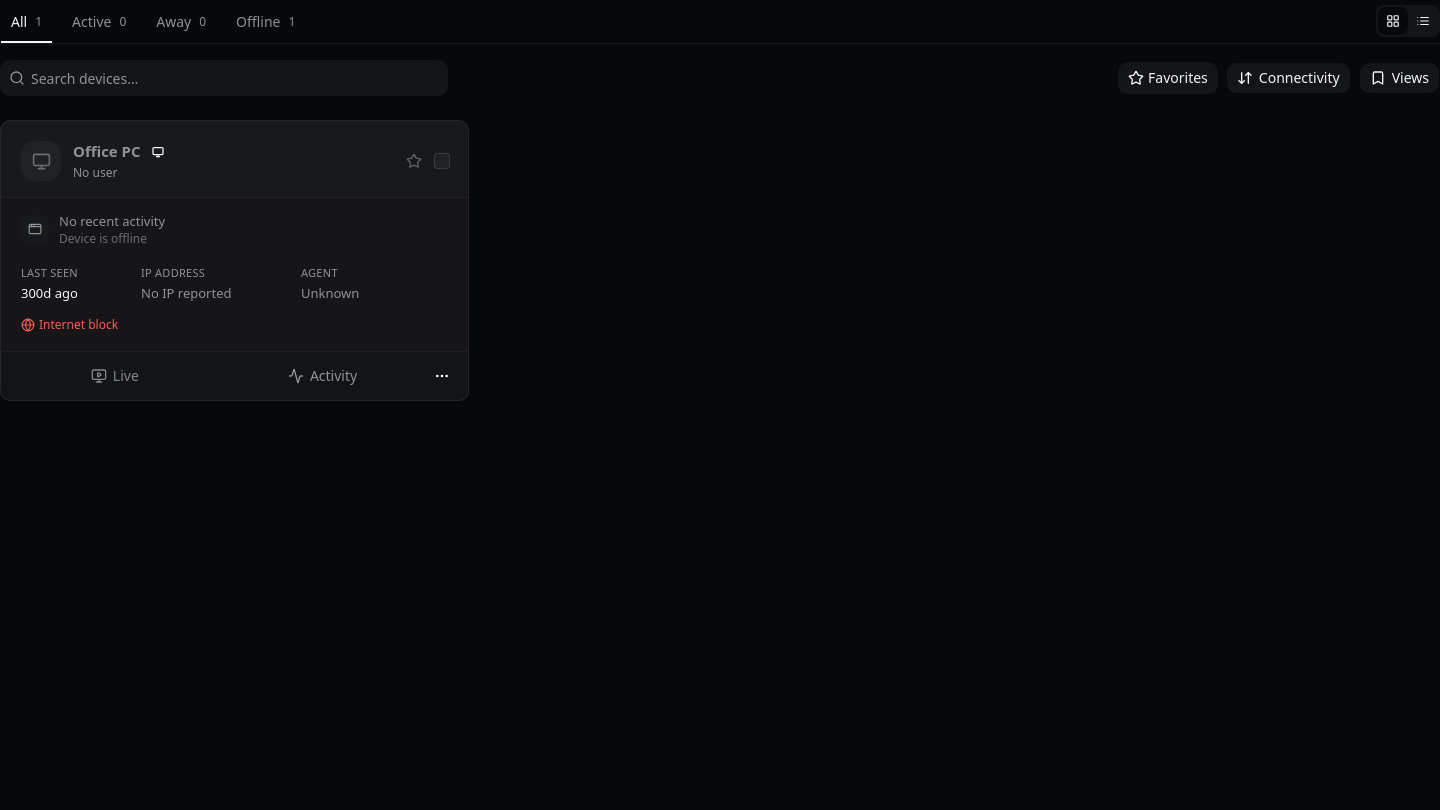
Test: fleet removal › propagates API rejection and preserves bulk selection
The image size is (1440, 810).
Click the button named "List view": point(1423, 21) [1408,7,1438,35]
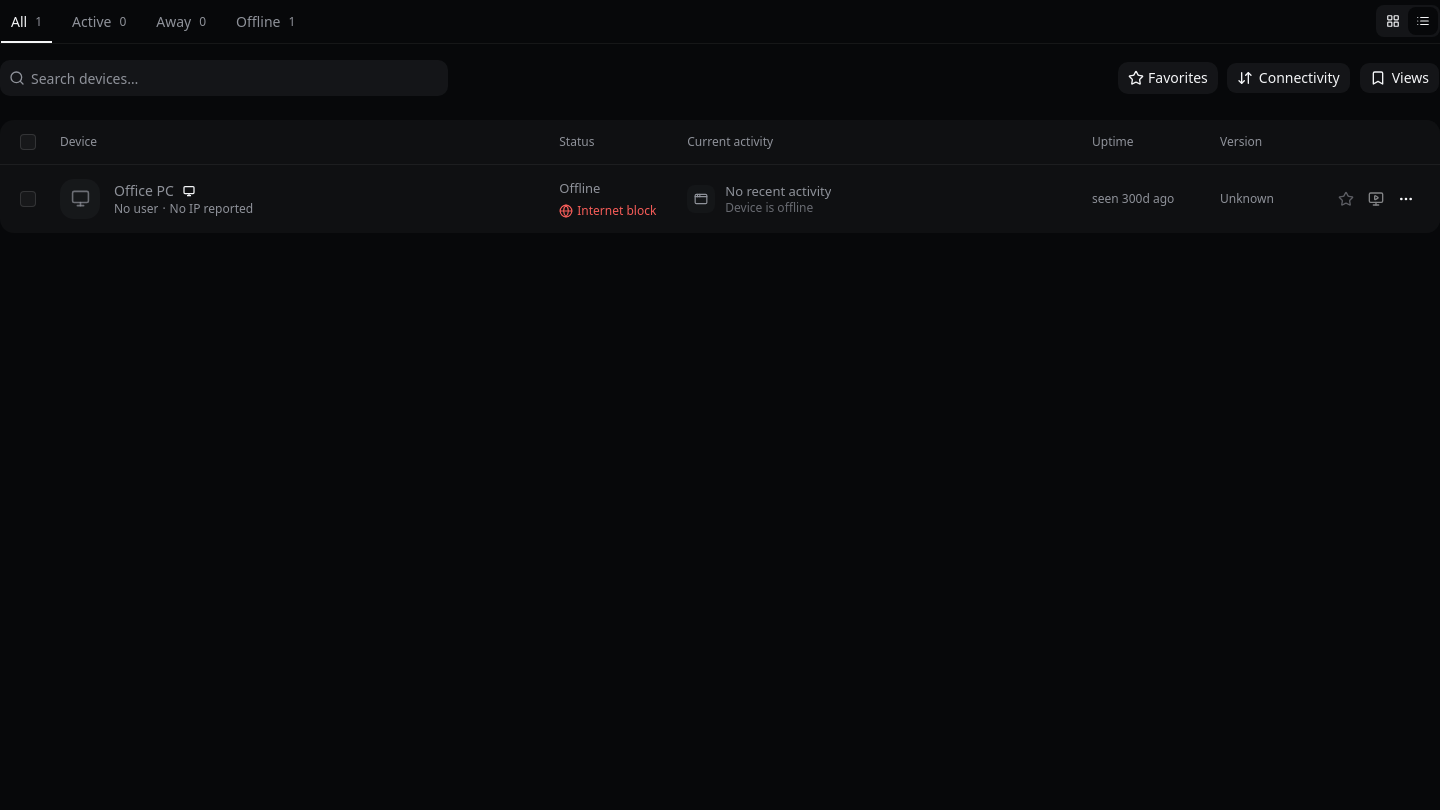
Click the checkbox named "Select all visible devices": point(28, 142) [20,134,36,150]
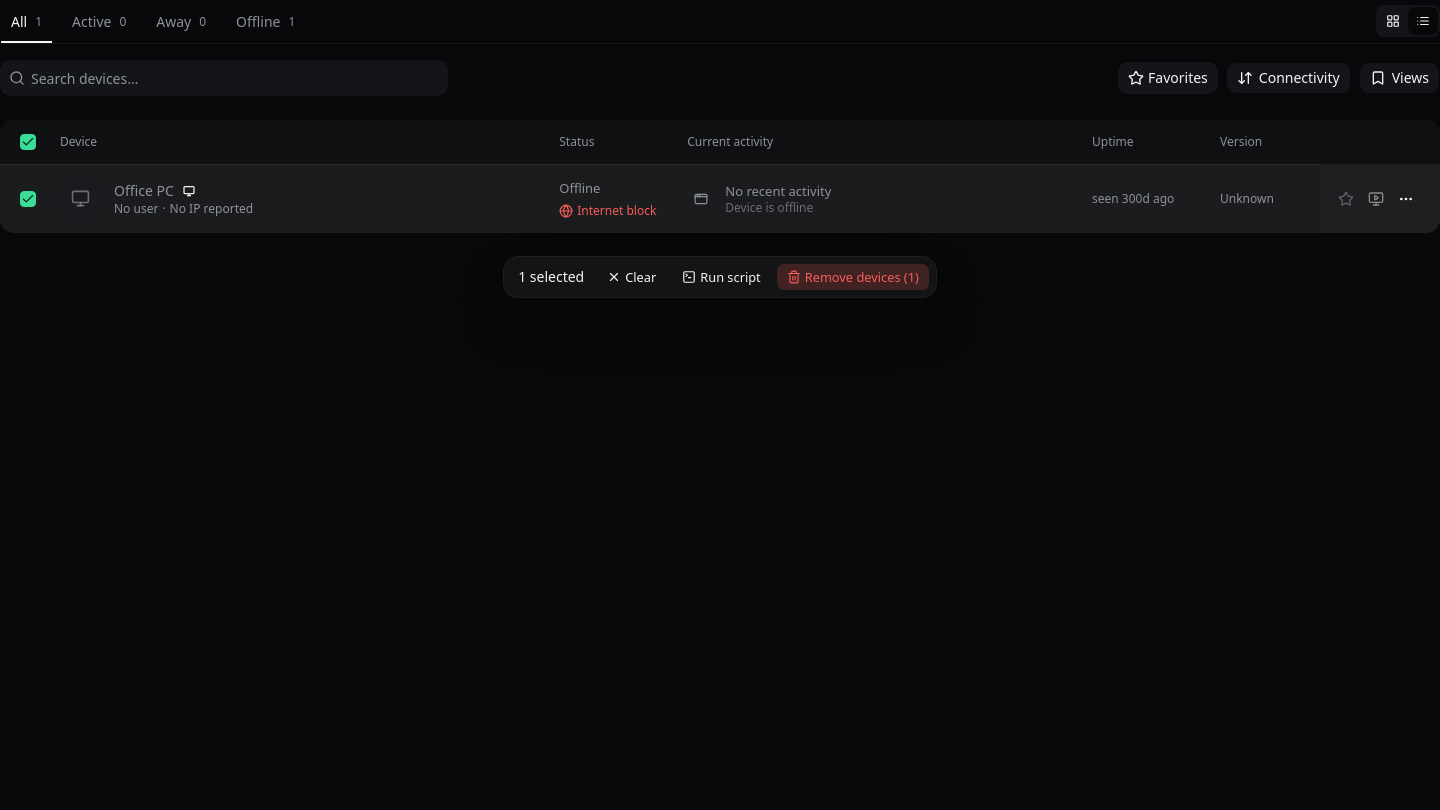
Check: the text "1 selected" is shown, box [518,267,584,287]
Check: the button "Remove devices (1)" is shown
Click the button "Remove devices (1)": point(853, 277) [776,263,930,291]
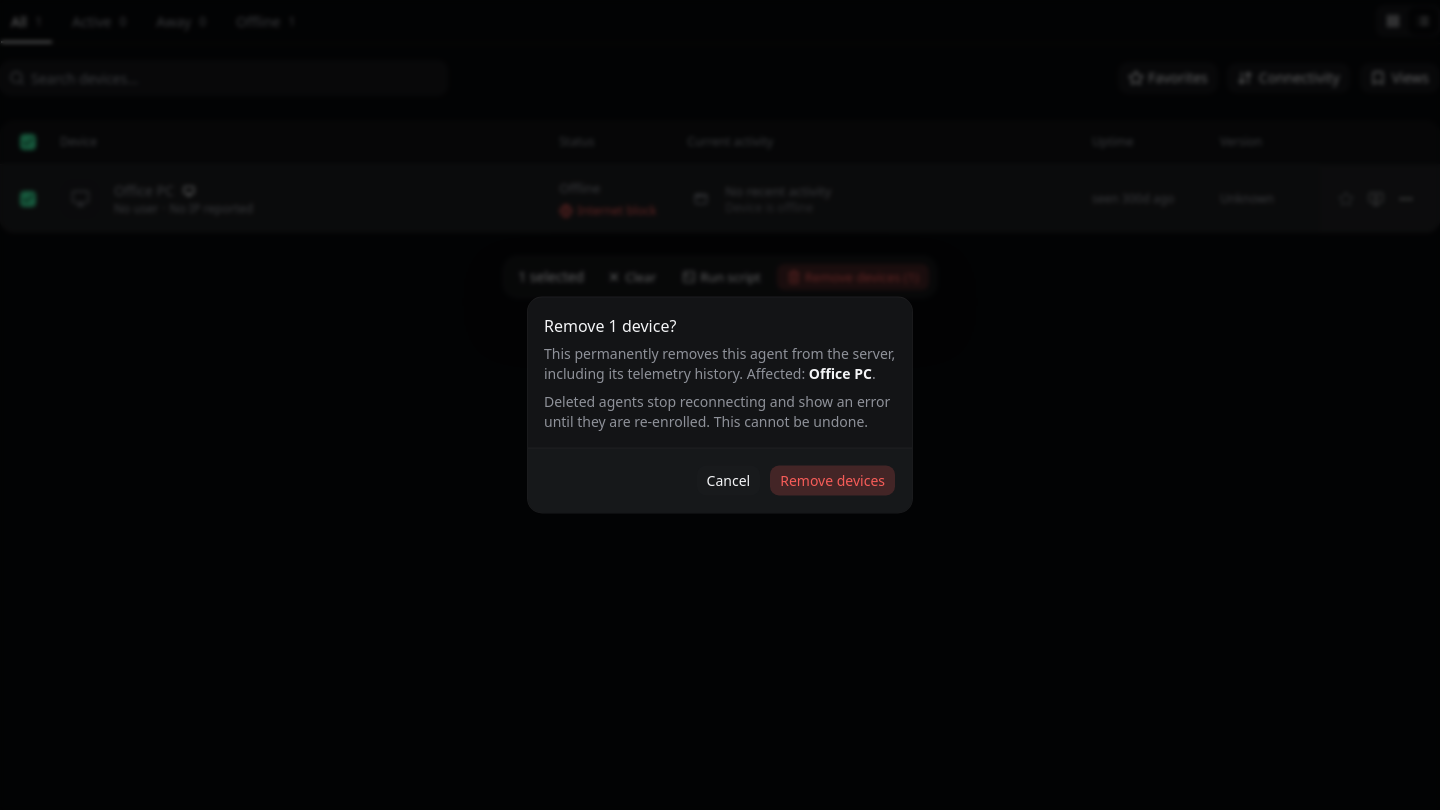
Check: the button "Remove devices" is shown
Click the button "Remove devices": point(833, 480) [769,464,896,496]
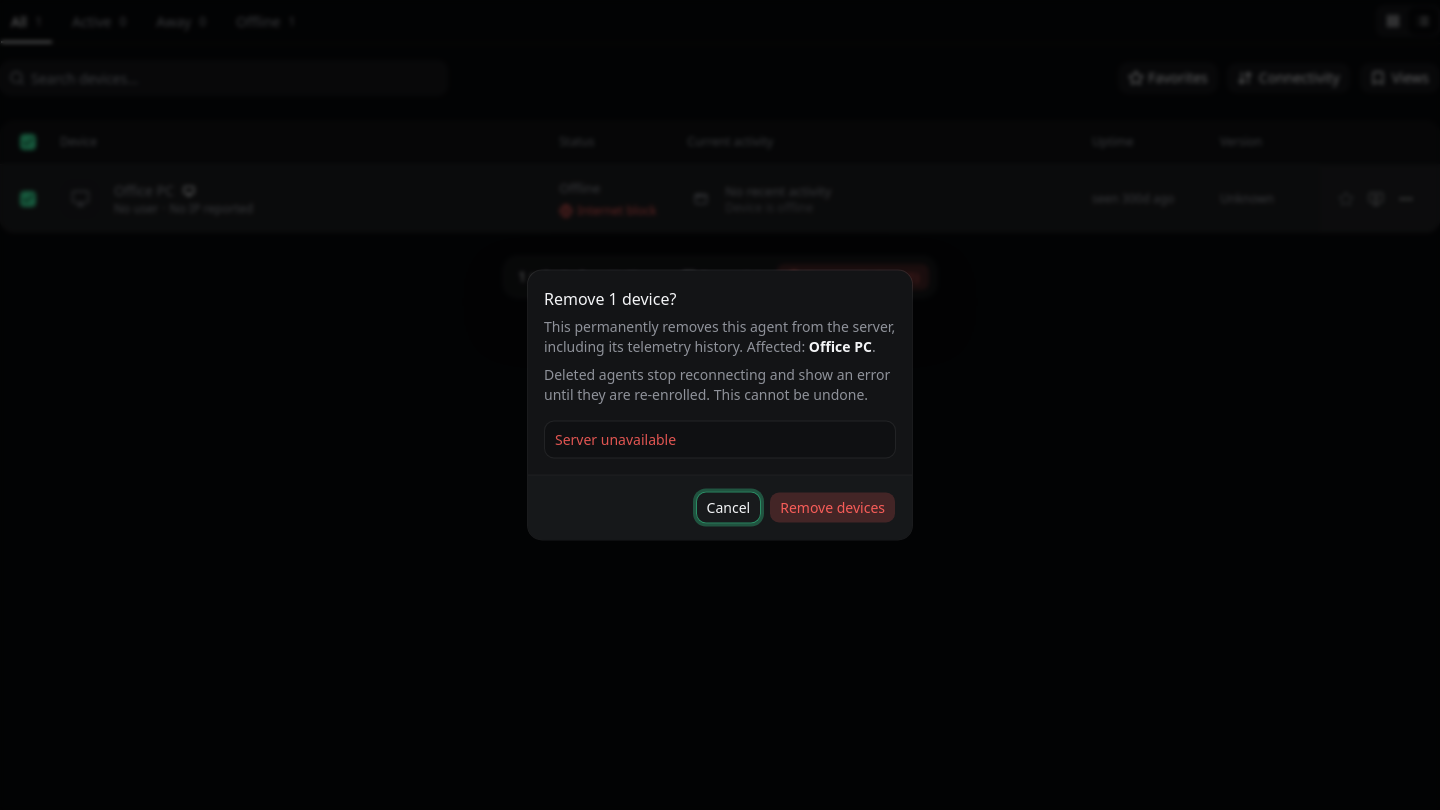
Check: the text "1 selected" is shown, box [518,267,584,287]
Check: the message "Server unavailable" is shown, box [544,420,896,458]
